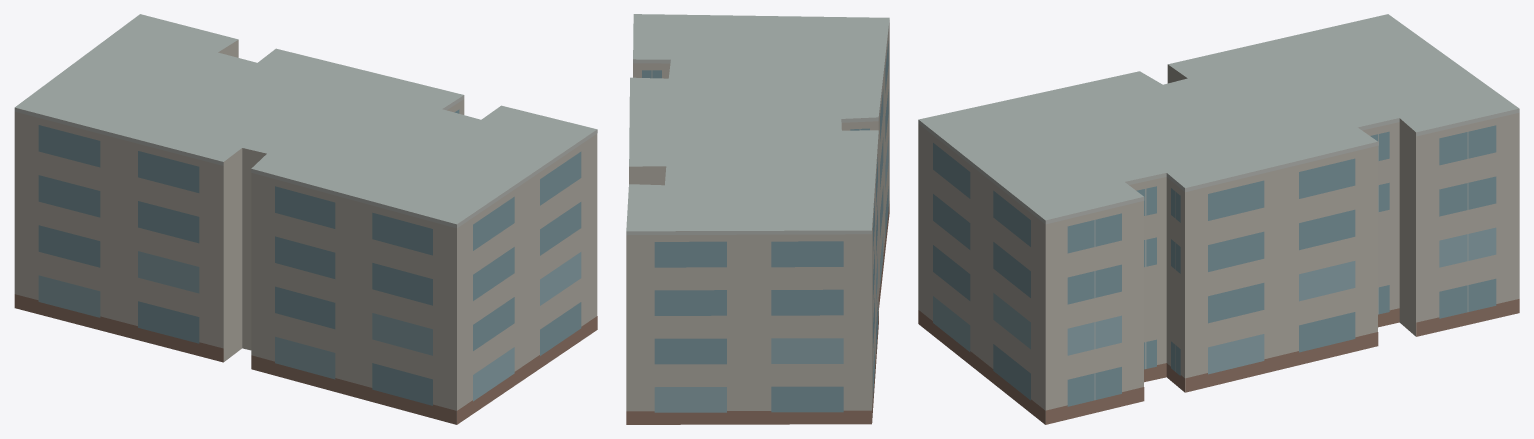
The model's file is survey-upis-32939564.glb.
3 views of the same model, side by side, from view 1: azimuth 30°, elevation 25°; view 2: azimuth 150°, elevation 25°; view 3: azimuth 270°, elevation 25° (orthographic). The views are drawn at different scales.
Visible parts, largest first — view 1: survey-upis-32939564.tmp; view 2: survey-upis-32939564.tmp; view 3: survey-upis-32939564.tmp.
Part boxes in pixels (left/top/right/bottom): survey-upis-32939564.tmp: left=14, top=14, right=597, bottom=424; survey-upis-32939564.tmp: left=626, top=14, right=889, bottom=424; survey-upis-32939564.tmp: left=918, top=14, right=1519, bottom=424.
Bounding box in the file's own units: 26.42 × 12.2 × 32.52.
